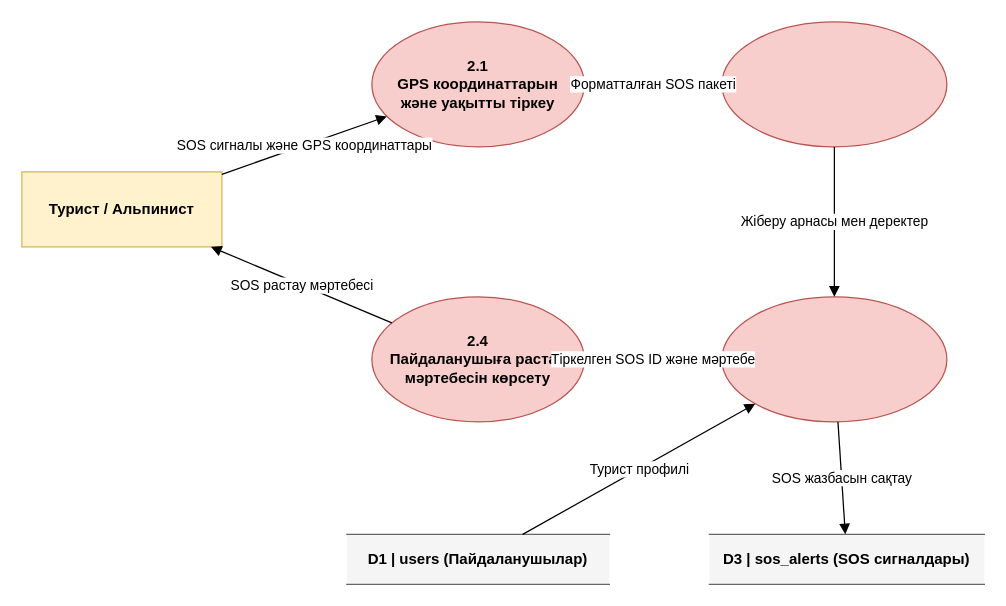
The diagram is 1006 pixels wide and 606 high, and some of its shapes have lost their labels. Here are the shapes that lost their labels. From the top down, the centre of each, then its label:
the point at 834,84: 2.2 Байланыс арнасын тексеру (Интернет / SMS кезек)
the point at 834,359: 2.3 SOS жазбасын деректер базасына сақтау
